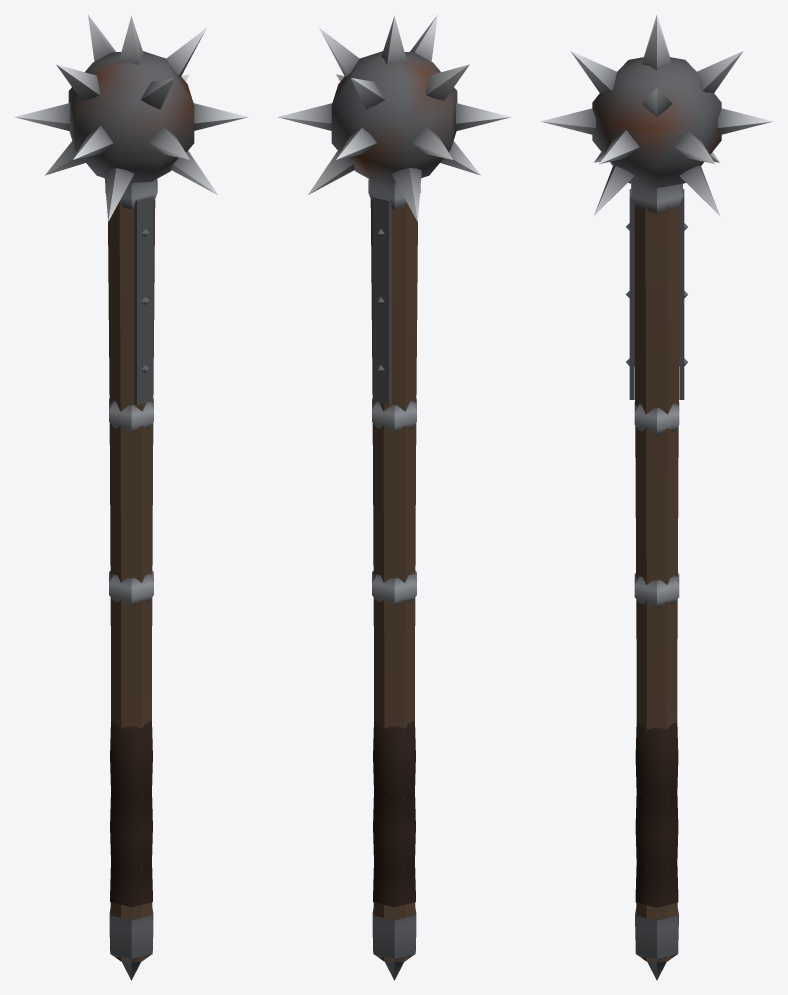
The model's file is morningstar.glb.
The picture shows the model from 3 angles, left to right: view 1: azimuth 30°, elevation 25°; view 2: azimuth 150°, elevation 25°; view 3: azimuth 270°, elevation 25°; orthographic projection.
Parts seen in each view (by area): view 1: morningstar; view 2: morningstar; view 3: morningstar.
Boxes of the visible parts, left/top/right/bottom form: morningstar: left=14, top=14, right=248, bottom=980; morningstar: left=277, top=14, right=511, bottom=980; morningstar: left=540, top=15, right=773, bottom=980.
Bounding box in the file's own units: 0.149 × 0.78 × 0.172.
